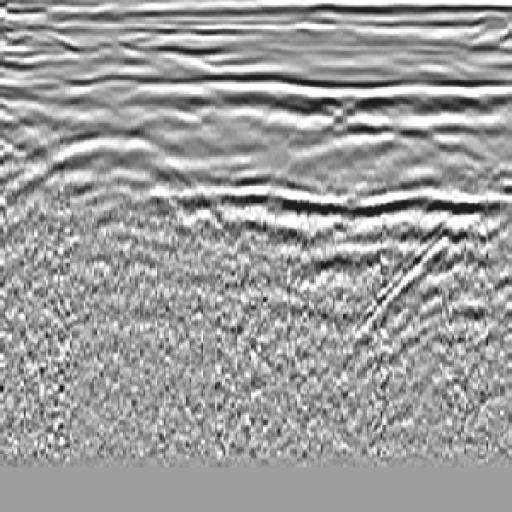metalic: (2, 123, 227, 215)
non-metallic: (343, 143, 507, 363)
